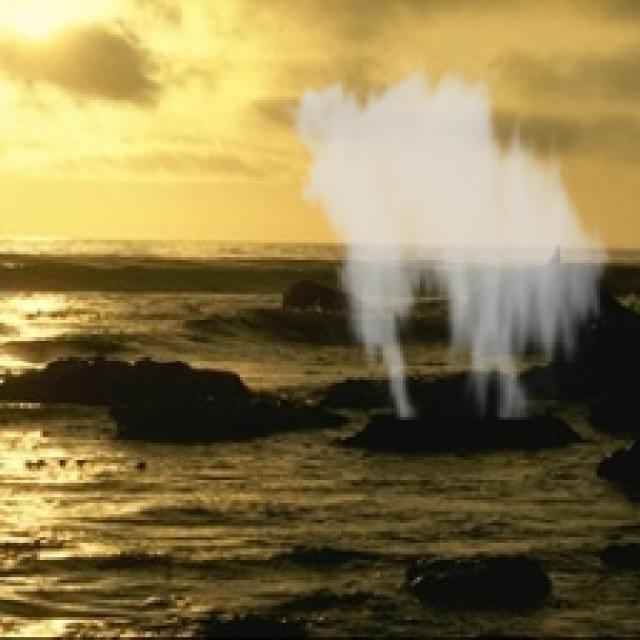smoke: (274, 51, 620, 420)
